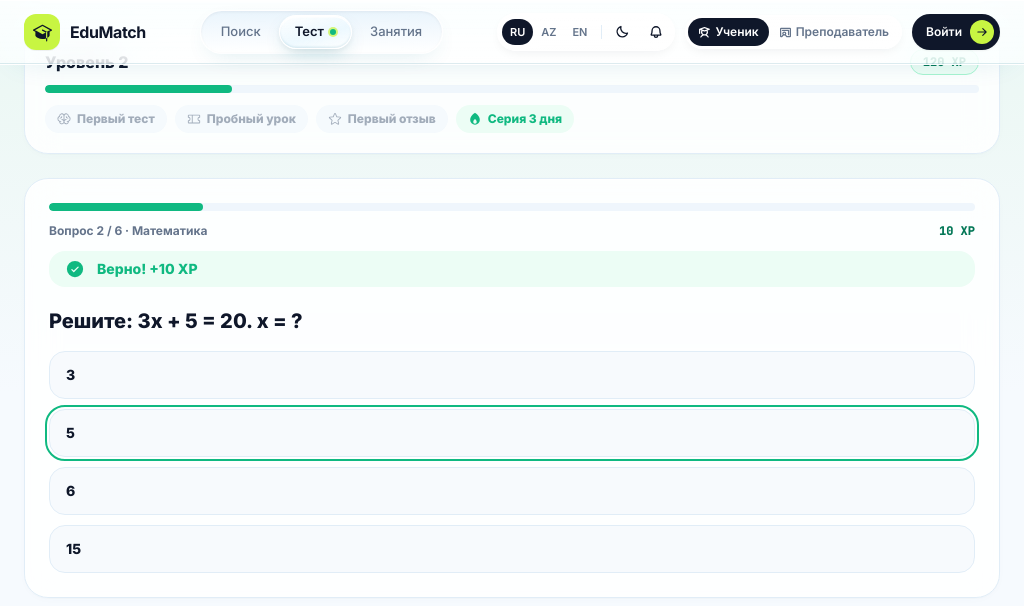
Test case: EduMatch Tier-1 UI Integration › completes level diagnostic quiz across 6 questions and unlocks rank/XP
Earlier steps of the test are not shown.
(page scrolled)
Click the button "5" at [70, 432], box [49,408,975,456]
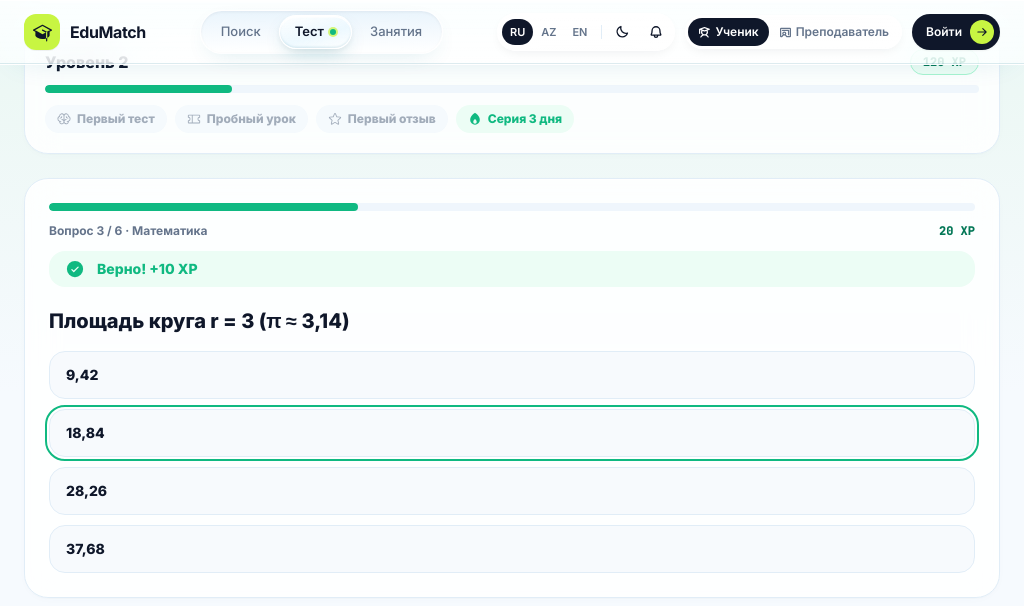
Click the button "28,26" at [87, 490], box [49,466,975,514]
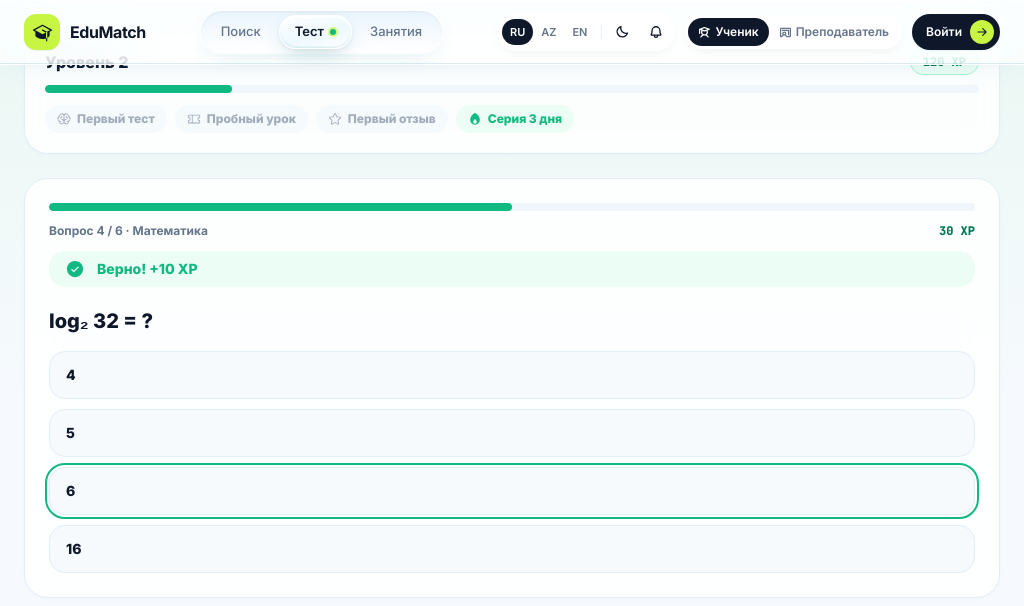
Click the button "5" at [70, 432], box [49,408,975,456]
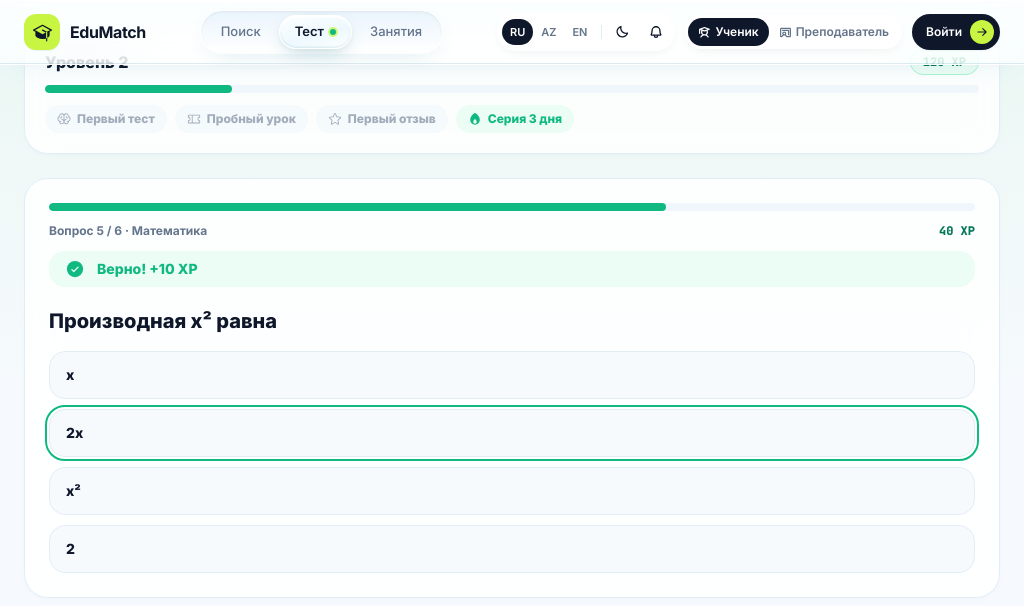
Click the button "2x" at [75, 432], box [49,408,975,456]
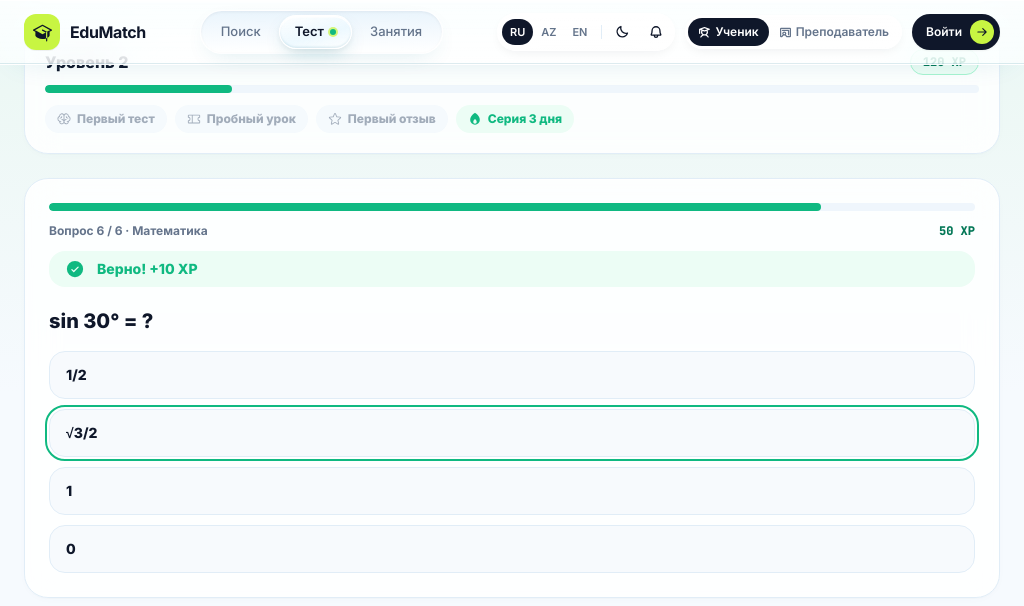
Click the button "1/2" at [76, 374], box [49,350,975,398]
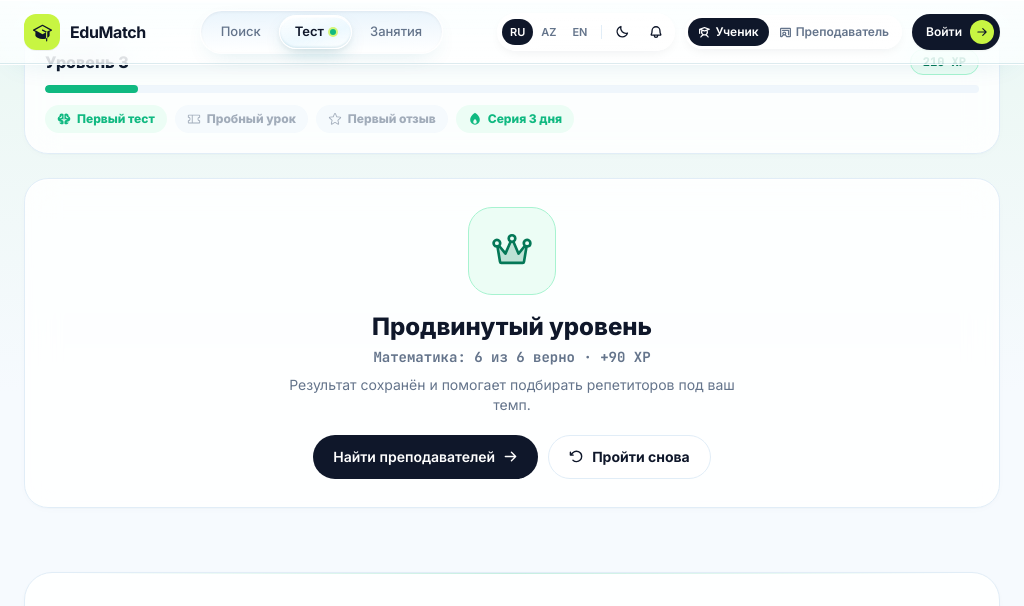
Check: the text "Математика: 6 из 6 верно · +90 XP" is shown, box [373,348,651,366]
Check: the heading "Продвинутый уровень" is shown, box [372,312,652,340]
Click the button "Найти преподавателей" at [426, 456], box [313,434,538,478]
(page scrolled)
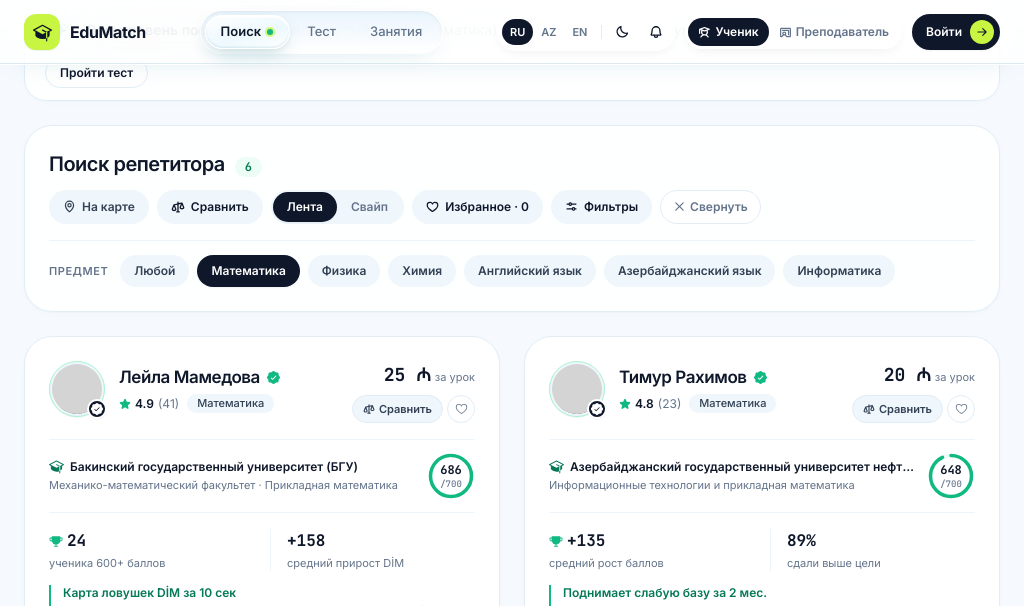
Check: the text "Ваш уровень после теста: Продвинутый" is shown, box [87,21,370,38]
